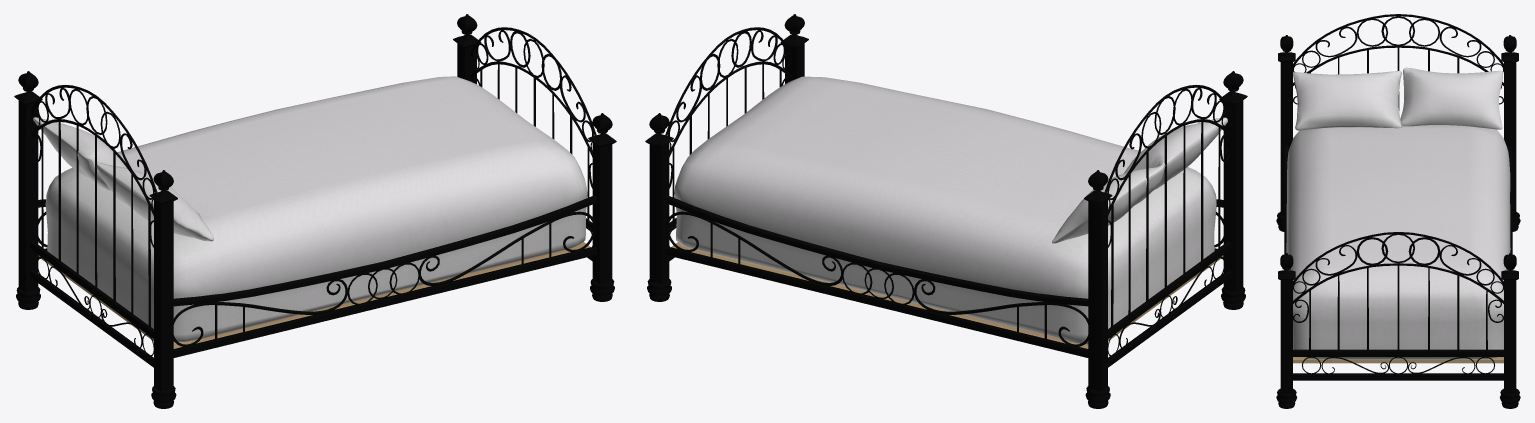
The model's file is cama.fbx.
The picture shows the model from 3 angles, left to right: view 1: azimuth 30°, elevation 25°; view 2: azimuth 150°, elevation 25°; view 3: azimuth 270°, elevation 25°; orthographic projection. The views are drawn at different scales.
Parts seen in each view (by area): view 1: root; view 2: root; view 3: root.
Boxes of the visible parts, x1=… form: root: x1=14, y1=14, x2=616, y2=408; root: x1=645, y1=14, x2=1247, y2=408; root: x1=1276, y1=14, x2=1520, y2=408.
Bounding box in the file's own units: 1.02 × 0.5528 × 0.5699.
Materials: 1 (1 with a texture image).
